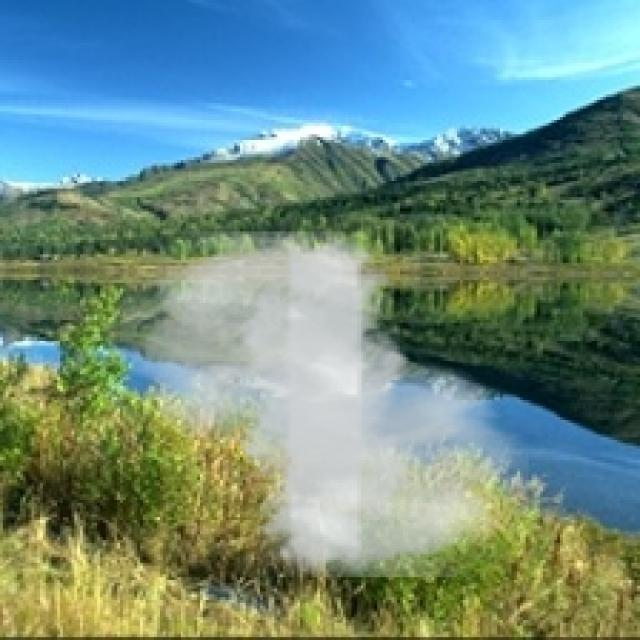Smoke: (120, 232, 529, 577)
